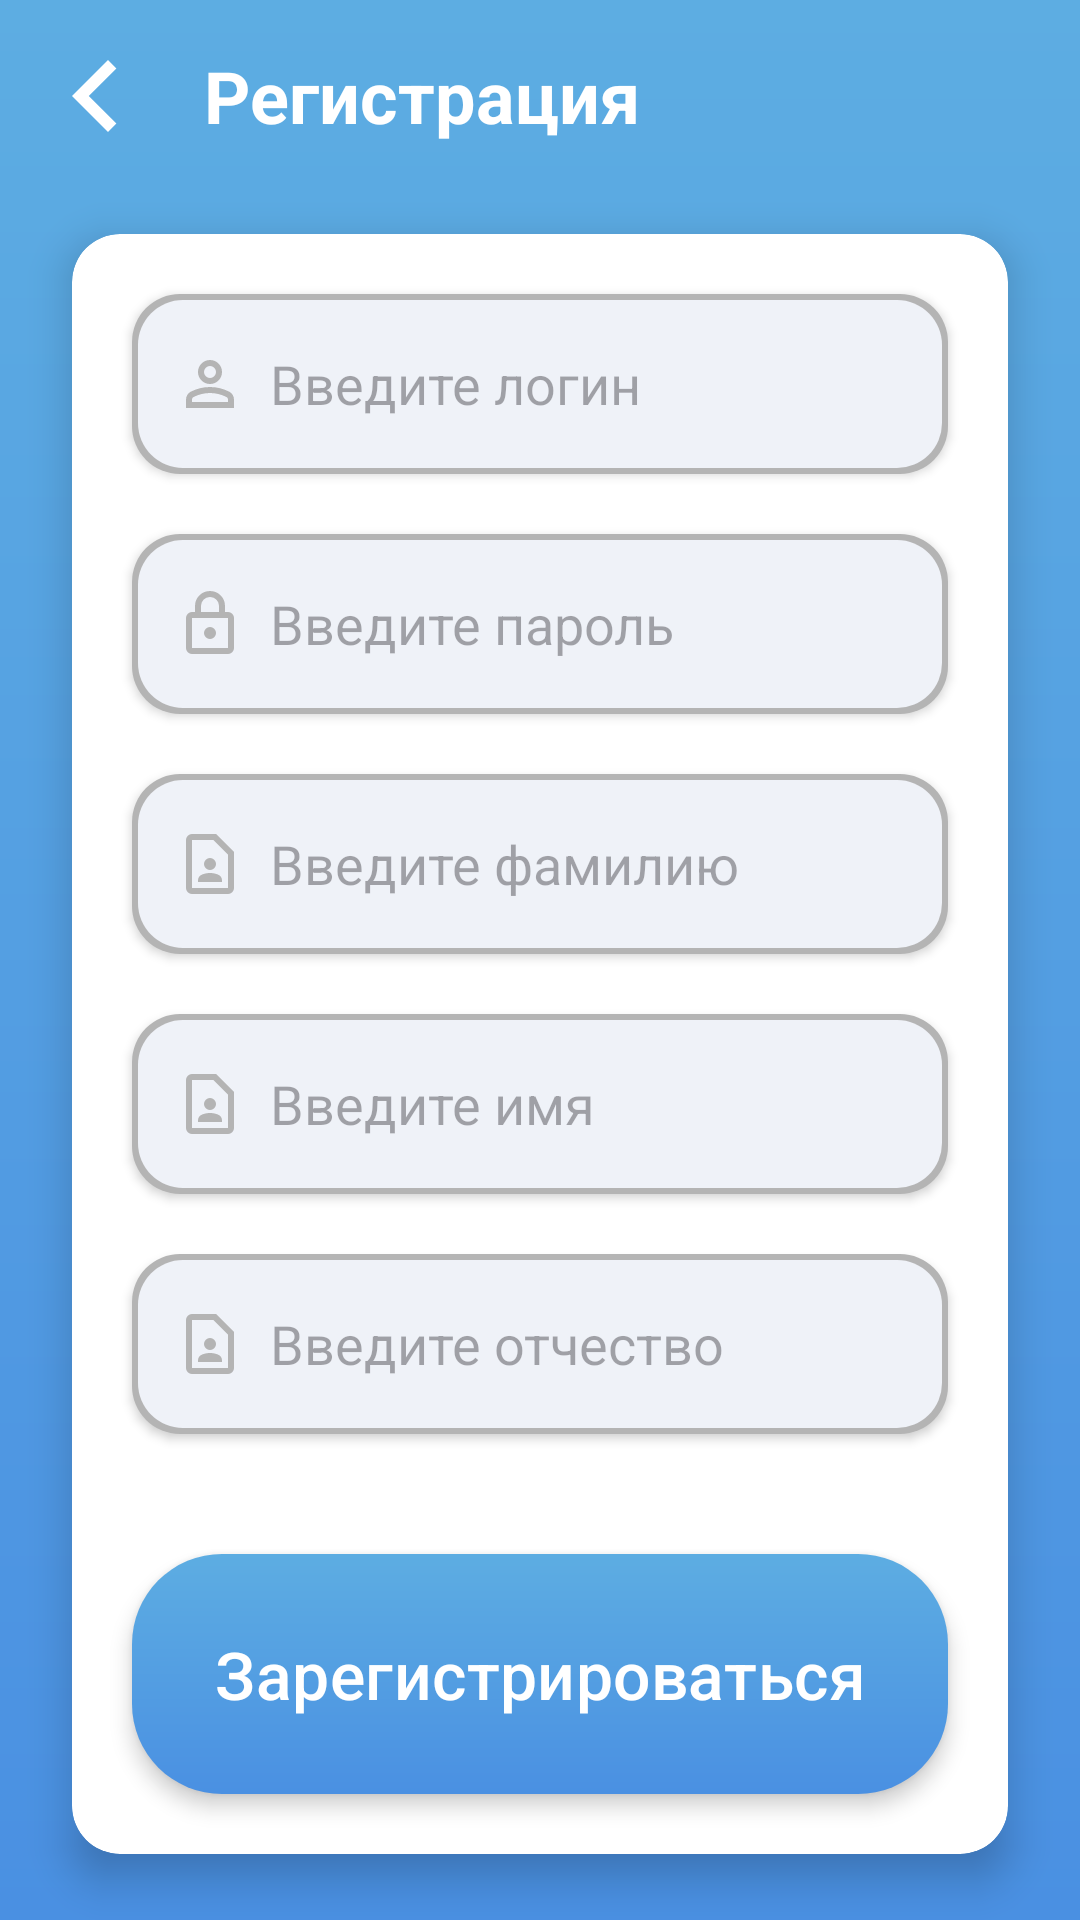

Icons on this 1080*1920 Android screen, each with the point to tap as point (x, y):
Back button: point (94, 96)
